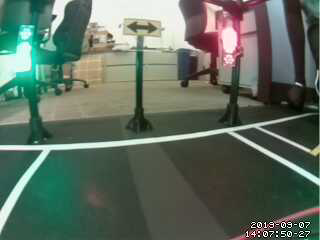Left_Right_sign: (124, 20, 162, 37)
Traffic_light_green: (19, 28, 32, 72)
Traffic_light_red: (222, 24, 240, 64)
